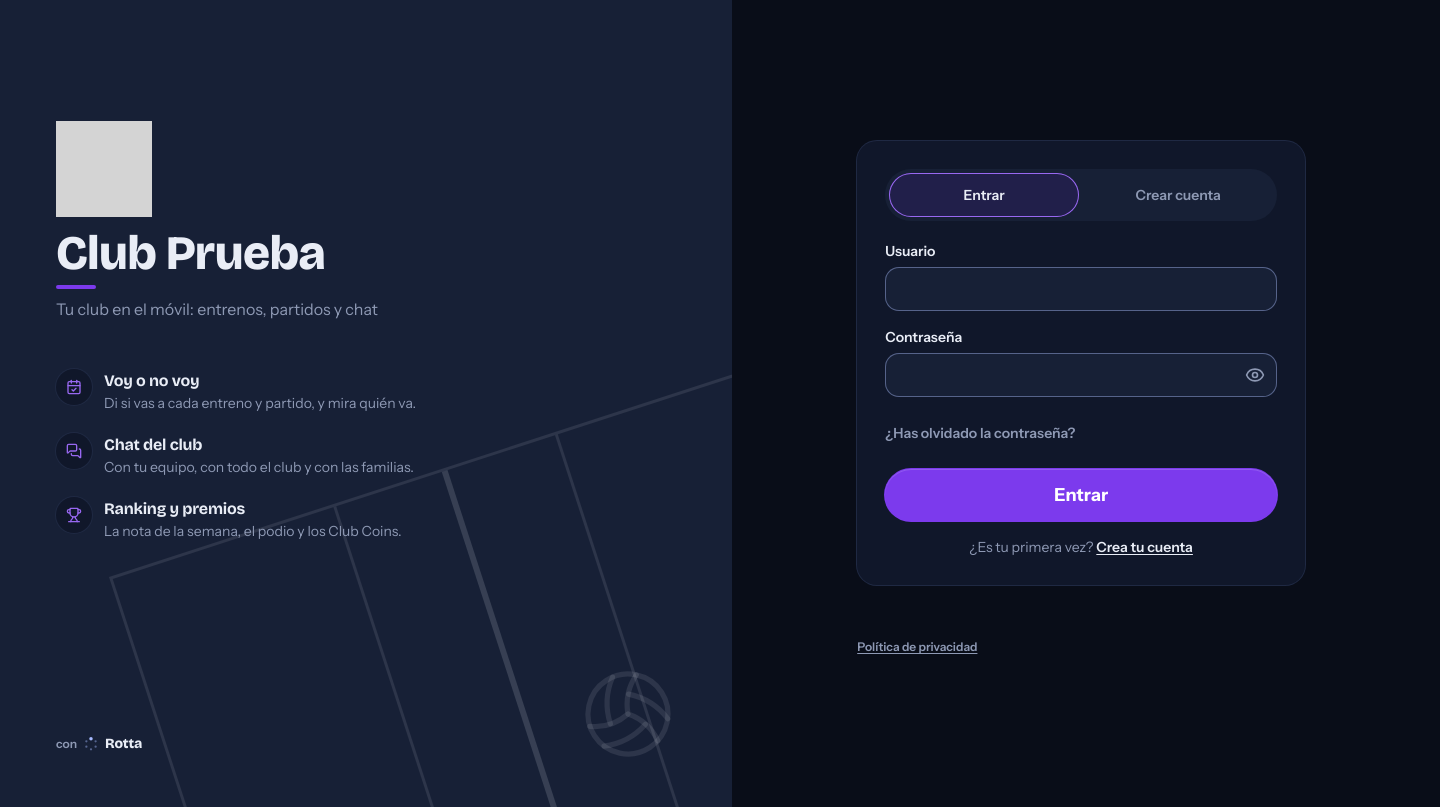
LoginPage › crear cuenta con un usuario ya en uso (409): el aviso del servidor
Click the tab "Crear cuenta".
click(1178, 195)  # box [1083,173,1273,217]
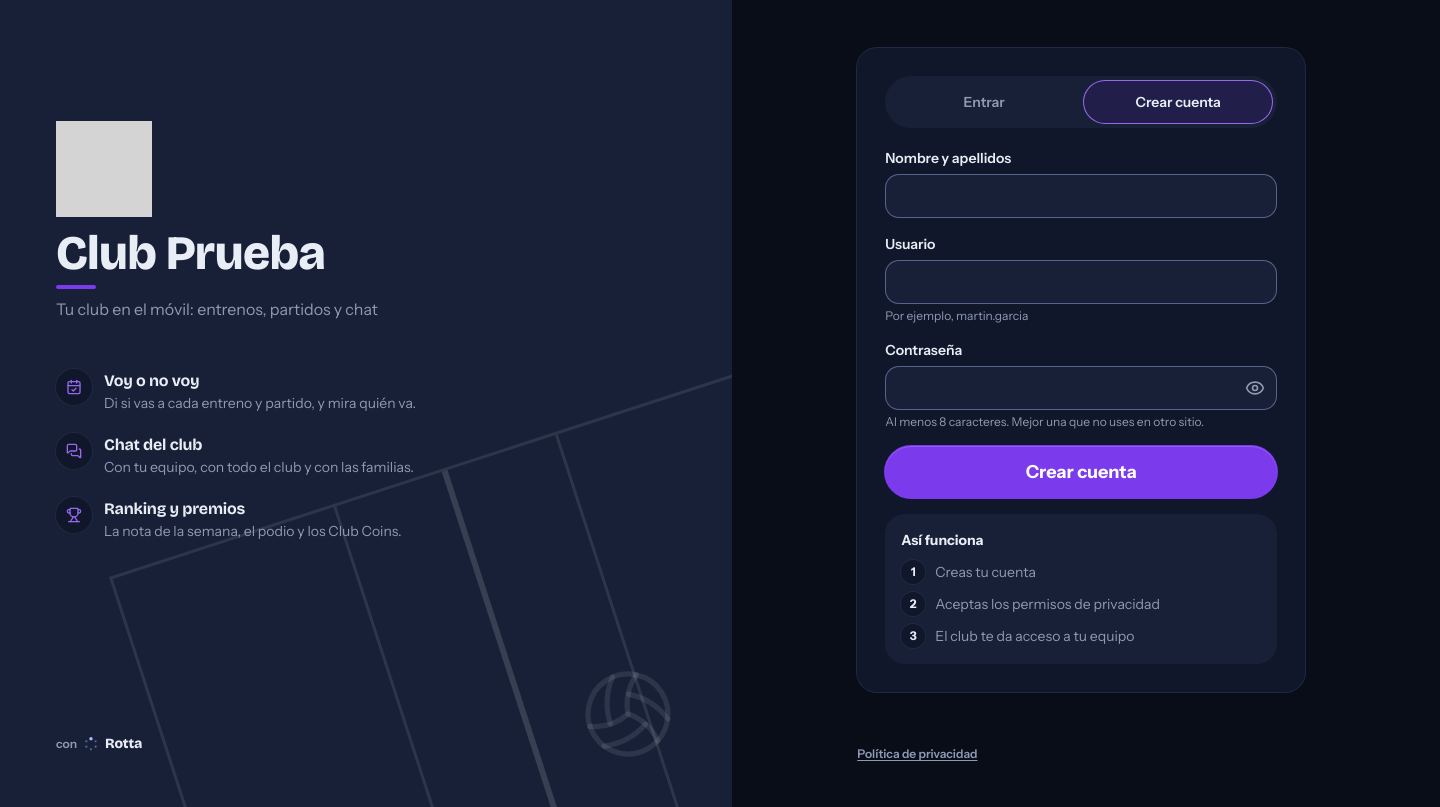
Type "Ana Prueba" into the field labelled "Nombre y apellidos".
click(1081, 196); type("Ana Prueba")  # box [885,174,1277,218]
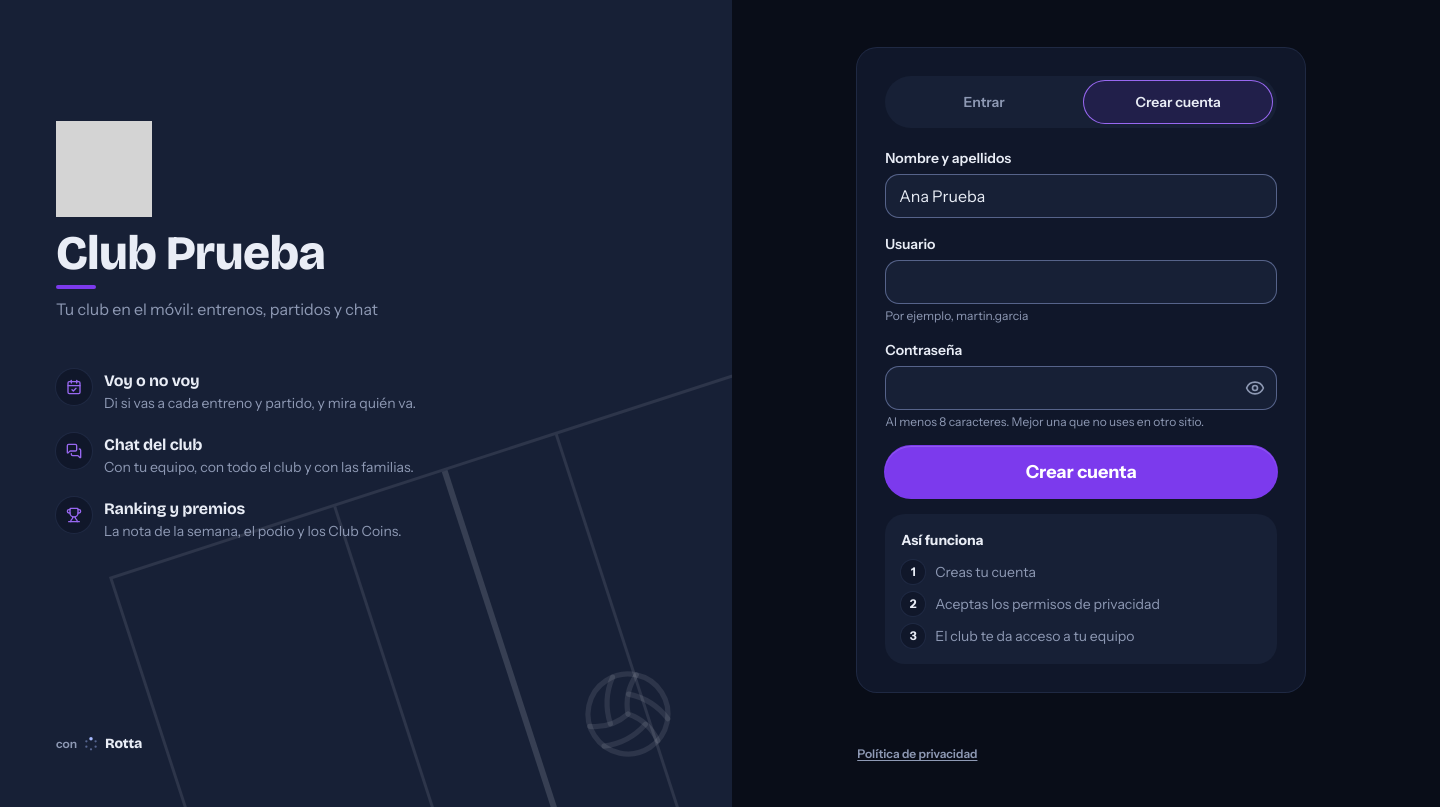
Type "ana.prueba" into the field labelled "Usuario".
click(1081, 282); type("ana.prueba")  # box [885,260,1277,304]
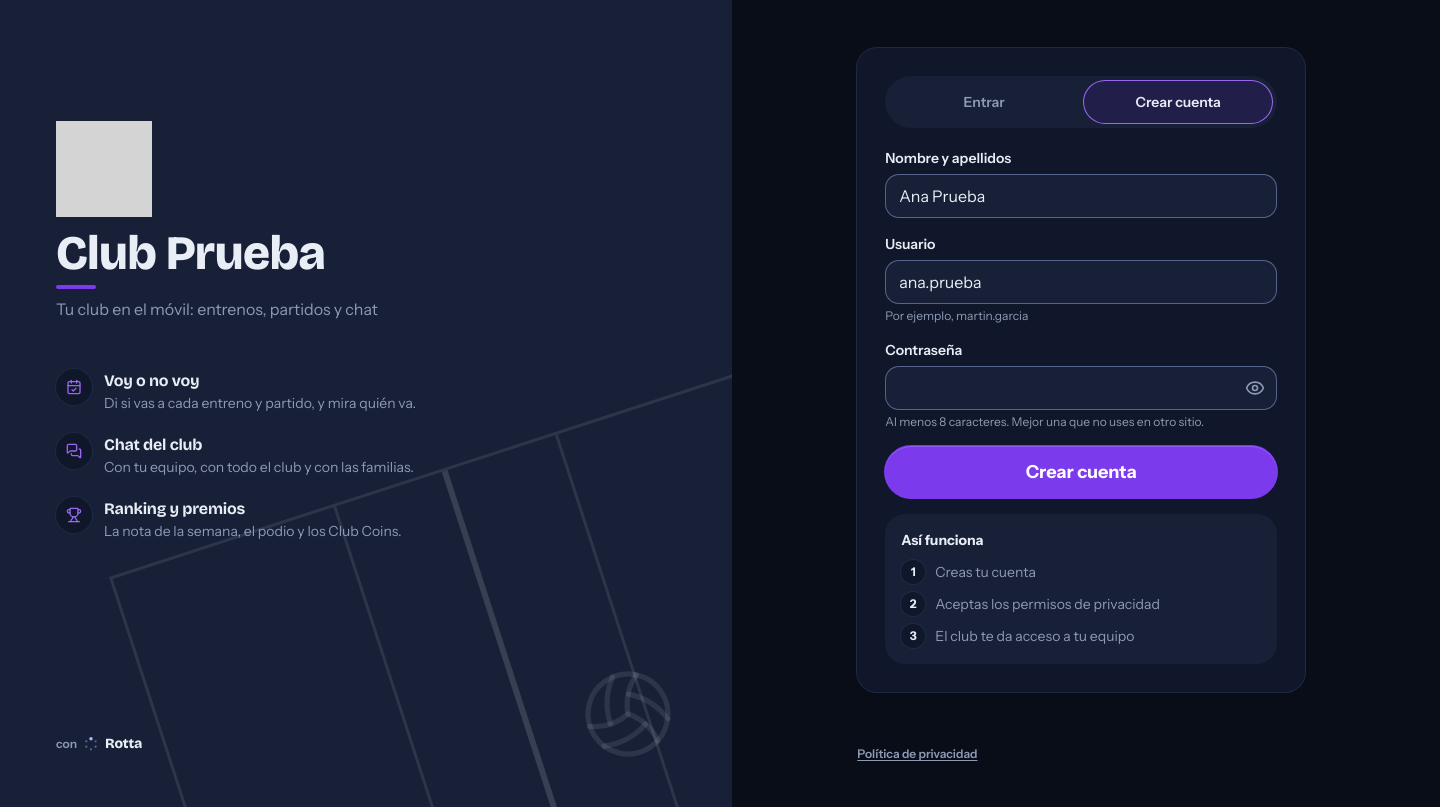
Type "secreta-123" into the password field labelled "Contraseña".
click(1081, 388); type("secreta-123")  # box [885,366,1277,410]
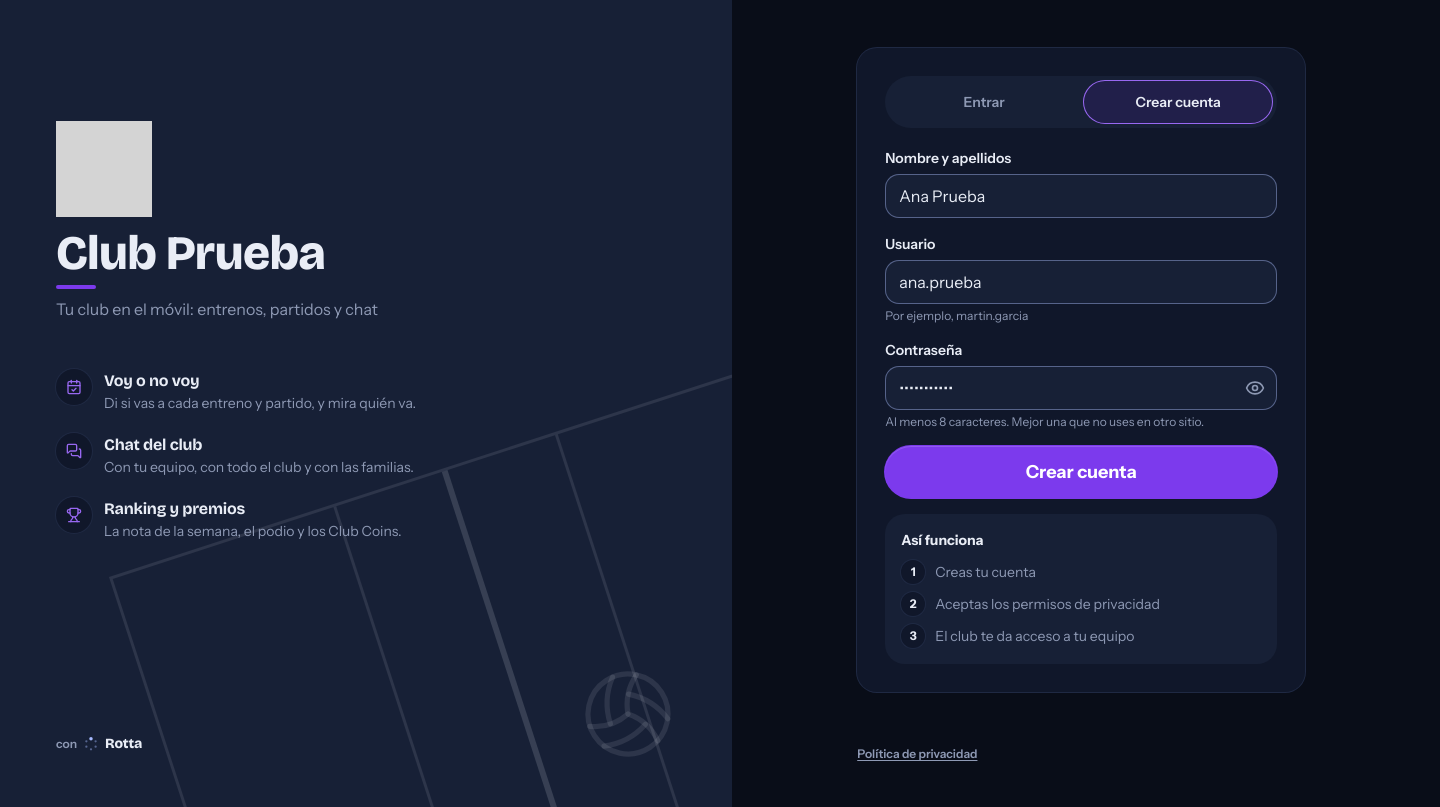
Click the button "Crear cuenta".
click(1081, 472)  # box [885,446,1277,498]
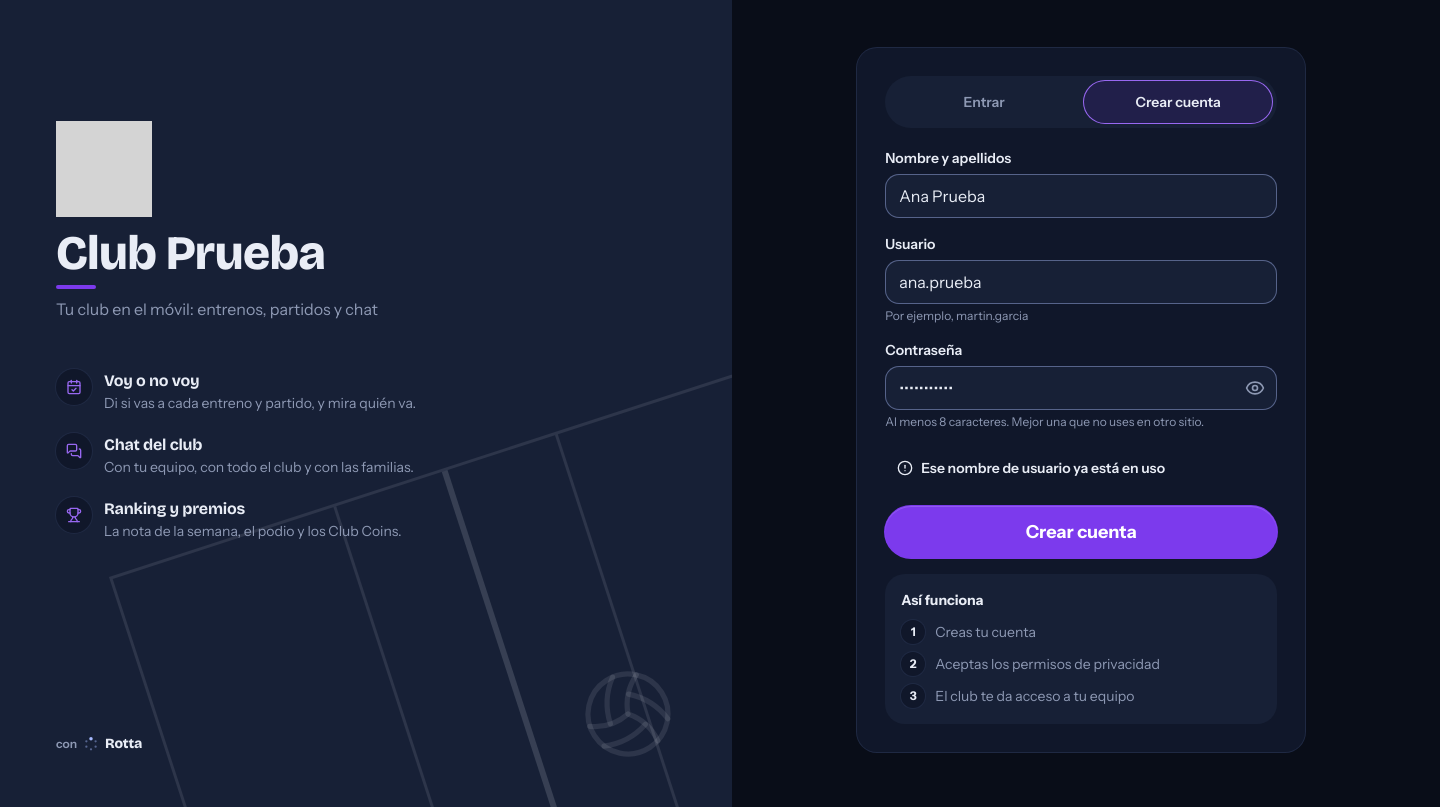
Check: the message shows "ya está en uso", box [921,459,1165,477]
